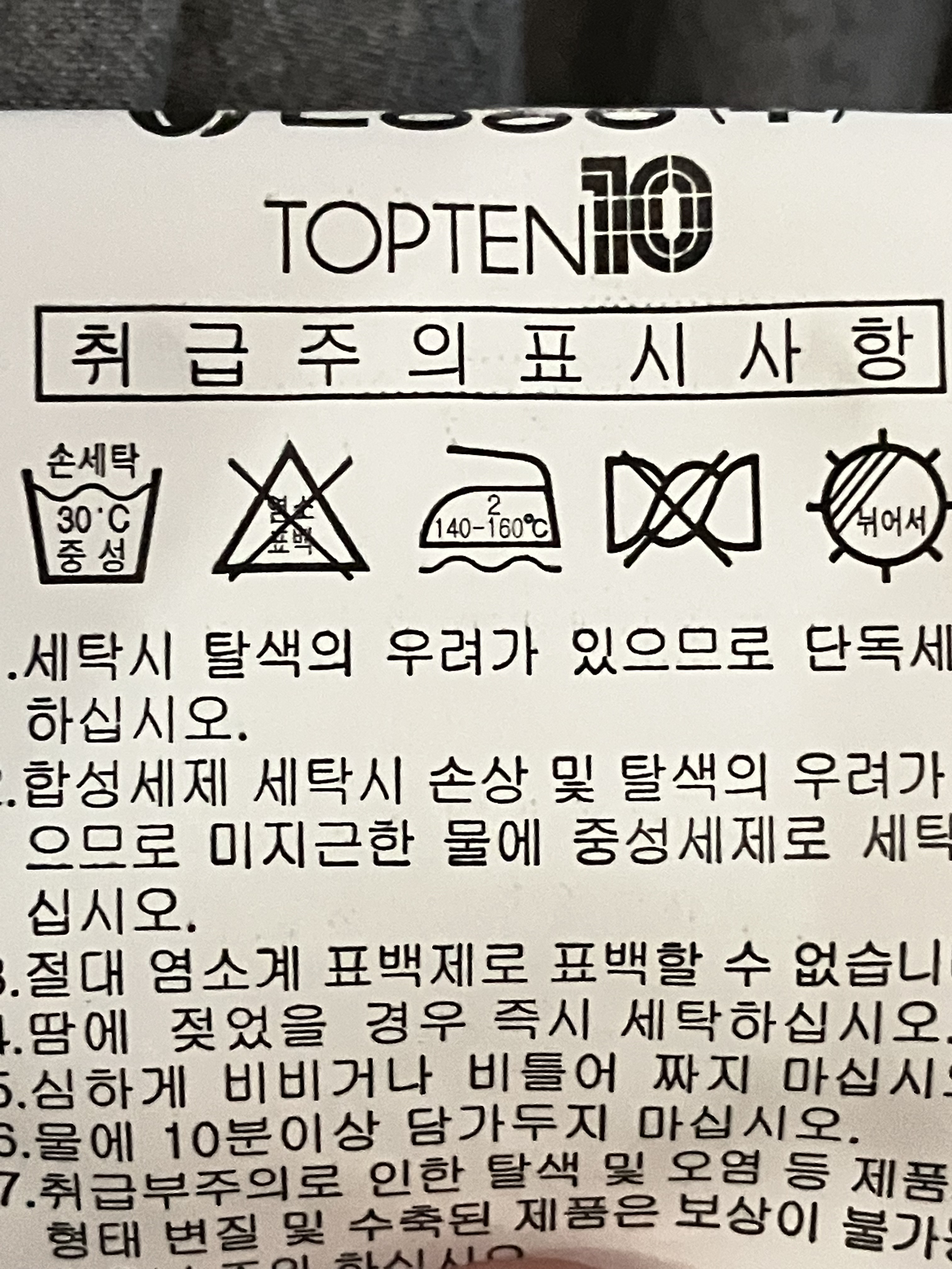KR_flat_dry_in_shade: (804, 430, 952, 577)
KR_hand_wash_30_neutral: (9, 429, 173, 592)
KR_iron_medium_temp_with_cloth: (401, 420, 567, 584)
KR_no_chlorine_bleach: (201, 425, 378, 585)
KR_no_wring: (593, 436, 784, 567)
